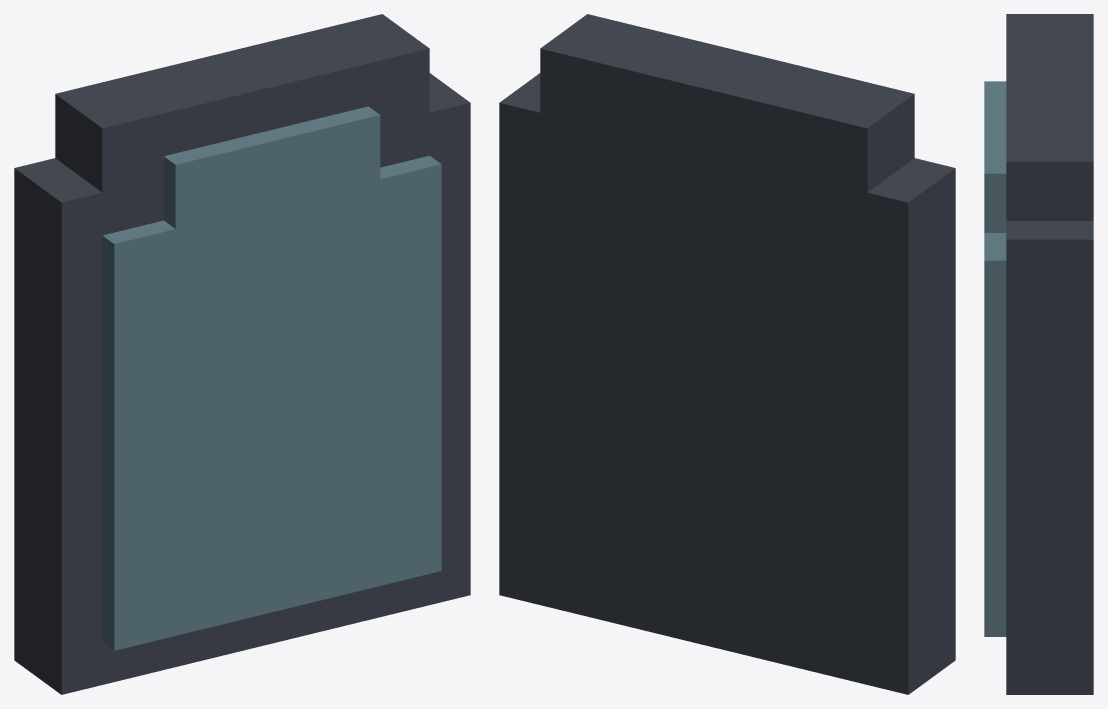
Rendered from voxel_32_40023.glb.
3 views of the same model, side by side, from view 1: azimuth 30°, elevation 25°; view 2: azimuth 150°, elevation 25°; view 3: azimuth 270°, elevation 25° (orthographic). The views are drawn at different scales.
Visible parts, largest first — view 1: prop_40023; view 2: prop_40023; view 3: prop_40023.
Boxes of the visible parts, <box> form: prop_40023: <box>14,14,470,694</box>; prop_40023: <box>499,14,955,694</box>; prop_40023: <box>984,14,1093,694</box>.
Size of the model in its own units: 0.5188 by 0.6744 by 0.1297.
